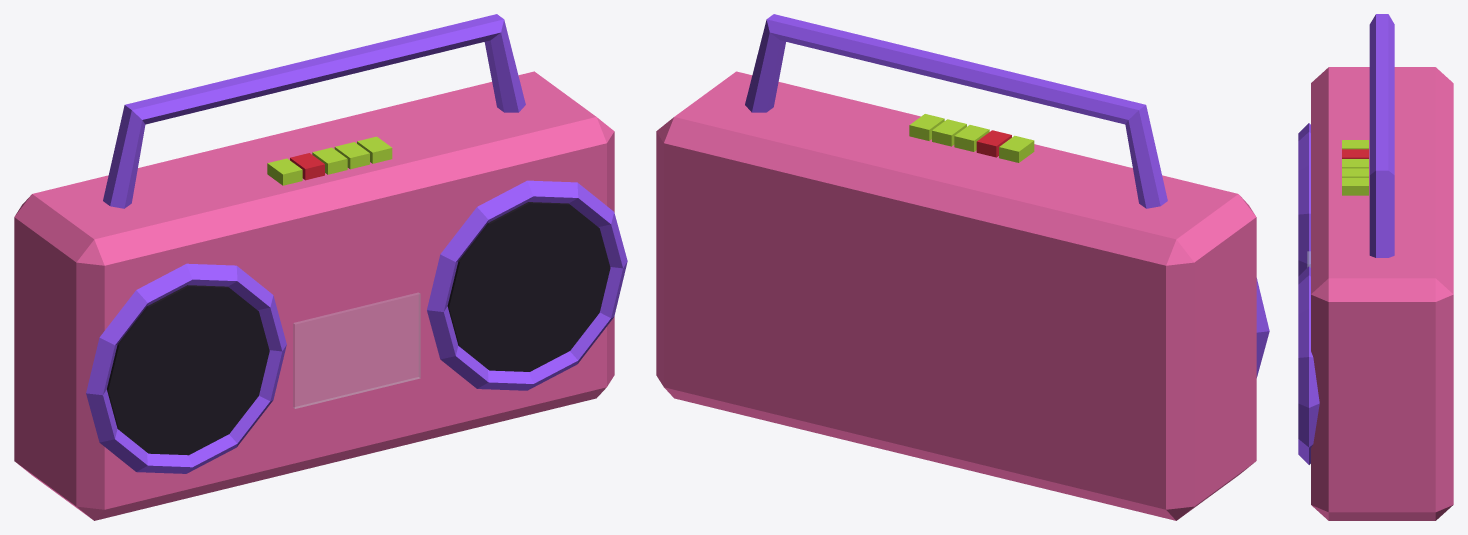
3 views of the same model, side by side, from view 1: azimuth 30°, elevation 25°; view 2: azimuth 150°, elevation 25°; view 3: azimuth 270°, elevation 25° (orthographic). The views are drawn at different scales.
Visible parts, largest first — view 1: body, speaker_r_cone, speaker_l_cone, handle_bar, speaker_l_ring, speaker_r_ring, cassette_window, key_0; view 2: body, handle_bar, speaker_l_ring, key_0; view 3: body, handle_bar, speaker_r_ring, speaker_l_ring, key_4, key_0, key_1, key_2, key_3.
Part boxes in pixels (left/top/right/bottom): body: left=14, top=71, right=614, bottom=520; speaker_r_cone: left=447, top=202, right=610, bottom=371; speaker_l_cone: left=107, top=285, right=269, bottom=455; handle_bar: left=103, top=14, right=525, bottom=208; speaker_l_ring: left=86, top=263, right=286, bottom=473; speaker_r_ring: left=427, top=180, right=627, bottom=390; cassette_window: left=293, top=293, right=420, bottom=408; key_0: left=267, top=158, right=302, bottom=185; body: left=656, top=71, right=1256, bottom=520; handle_bar: left=745, top=14, right=1167, bottom=208; speaker_l_ring: left=1256, top=278, right=1269, bottom=377; key_0: left=999, top=135, right=1034, bottom=162; body: left=1311, top=67, right=1453, bottom=520; handle_bar: left=1369, top=14, right=1394, bottom=257; speaker_r_ring: left=1298, top=266, right=1319, bottom=464; speaker_l_ring: left=1298, top=123, right=1310, bottom=276; key_4: left=1342, top=177, right=1368, bottom=195; key_0: left=1342, top=140, right=1368, bottom=149; key_1: left=1342, top=149, right=1368, bottom=158; key_2: left=1342, top=159, right=1368, bottom=168; key_3: left=1342, top=168, right=1368, bottom=177.
Size of the model in its own units: 0.604 by 0.3995 by 0.174.
